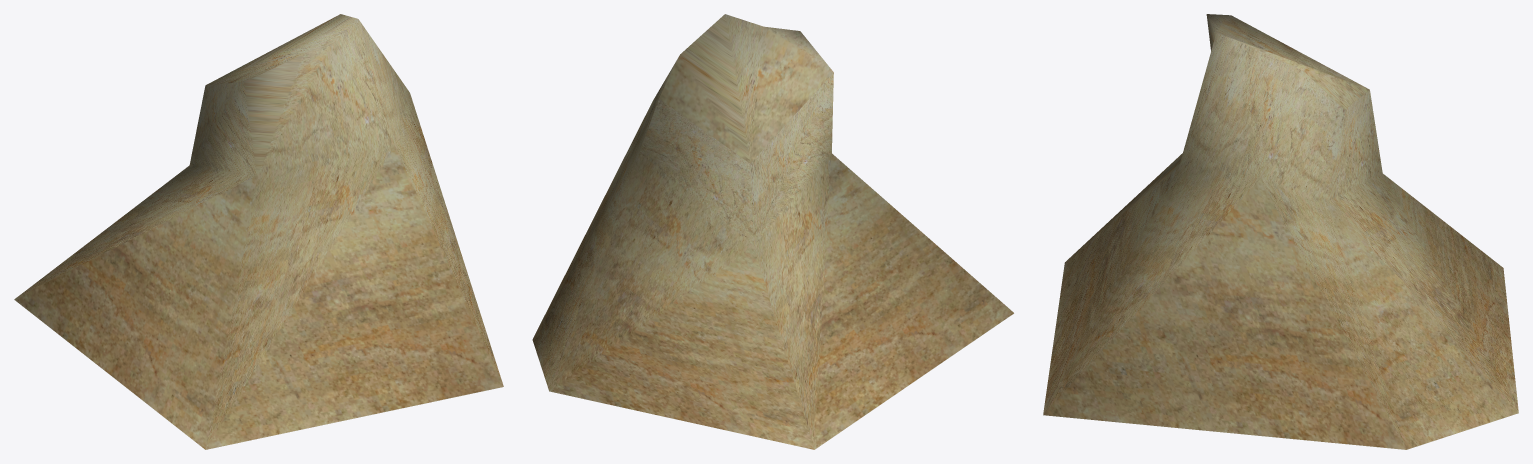
The model's file is rock_beach_spike_a2_l3.fbx.
The picture shows the model from 3 angles, left to right: view 1: azimuth 30°, elevation 25°; view 2: azimuth 150°, elevation 25°; view 3: azimuth 270°, elevation 25°; orthographic projection. The views are drawn at different scales.
Parts seen in each view (by area): view 1: mesh_node; view 2: mesh_node; view 3: mesh_node.
Part boxes in pixels (left/top/right/bottom): mesh_node: left=14, top=14, right=503, bottom=449; mesh_node: left=532, top=14, right=1013, bottom=449; mesh_node: left=1043, top=14, right=1518, bottom=449.
Bounding box in the file's own units: 6.55 × 5.62 × 7.
Materials: 1 (1 with a texture image).
